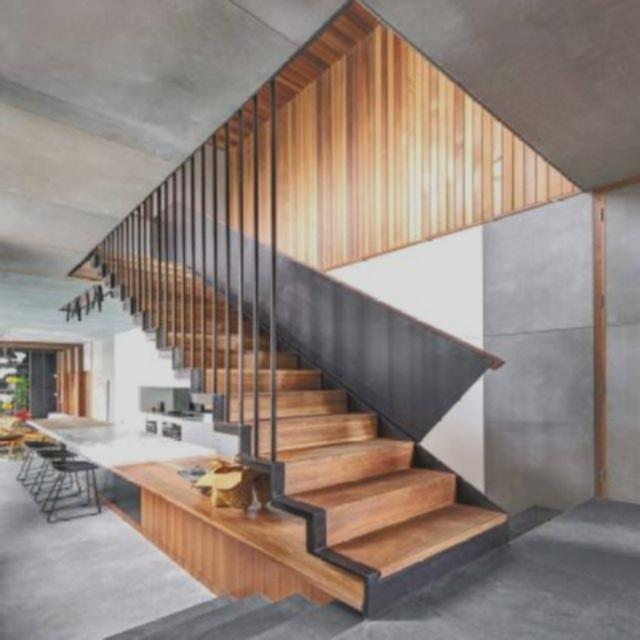stair: (72, 238, 558, 596)
